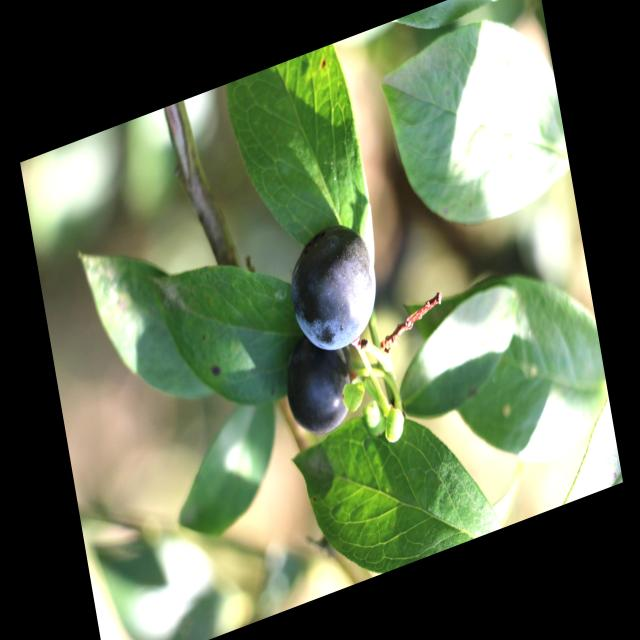blueberry: (282, 210, 384, 363), (279, 331, 357, 445)
